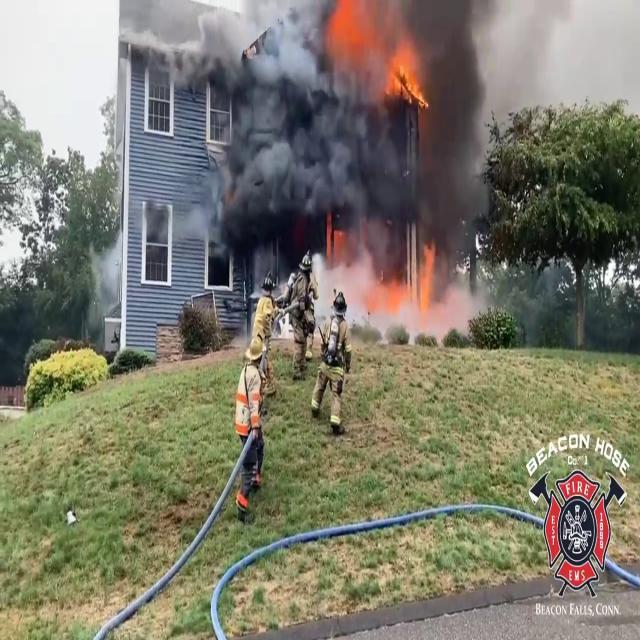Fire: (368, 234, 458, 338), (386, 34, 426, 110)
Smoke: (183, 2, 502, 280)
